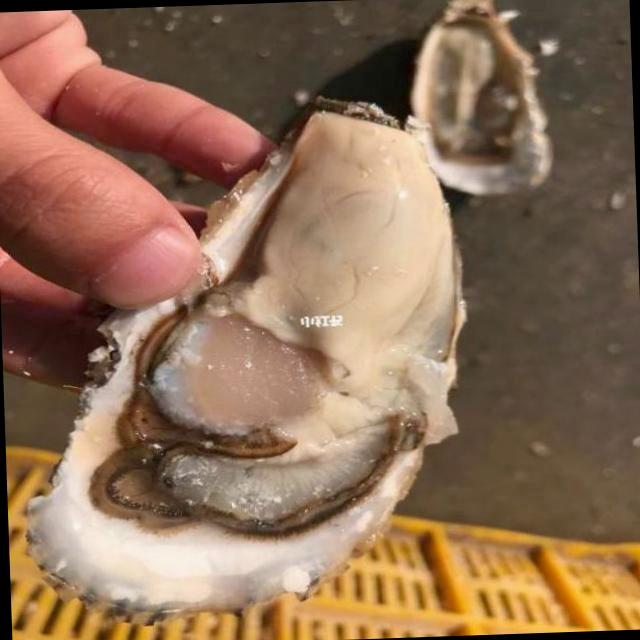Oyster-Open: (27, 96, 470, 618), (402, 0, 556, 196)
